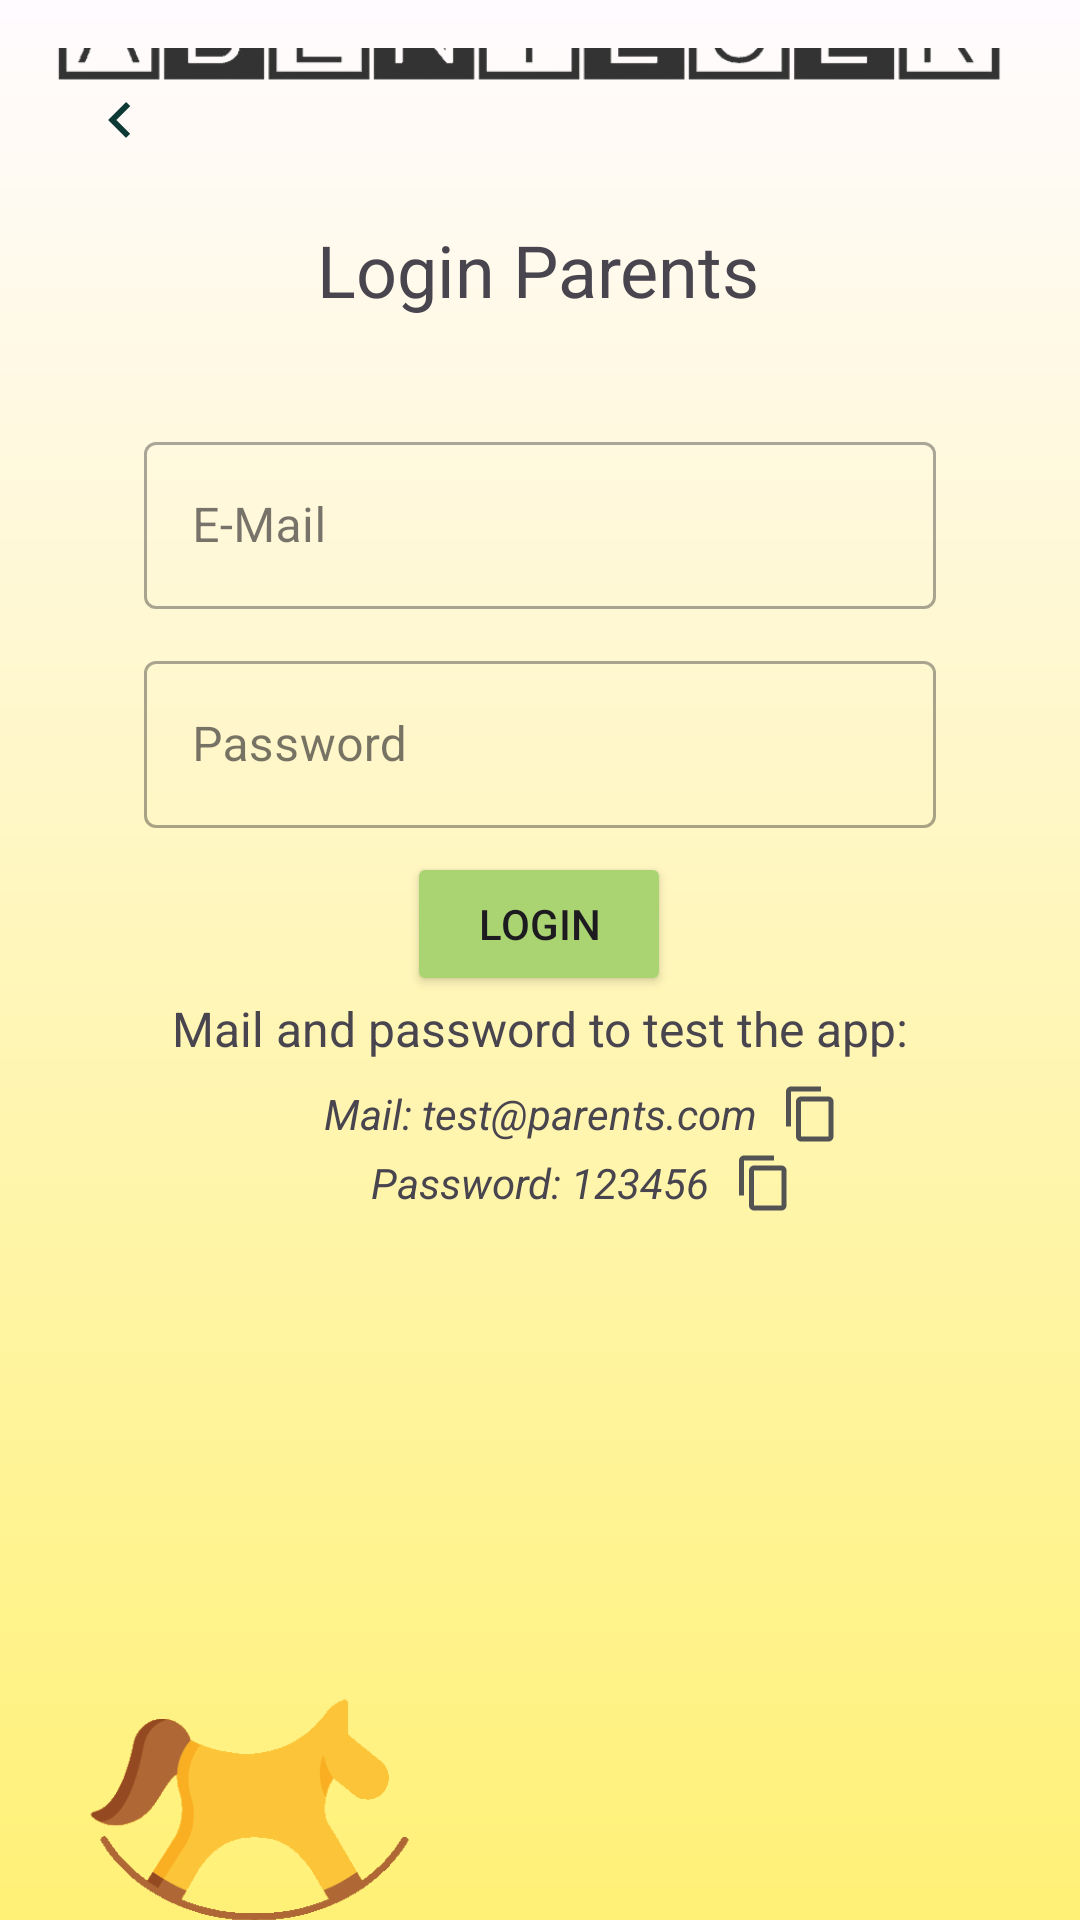

Point at icon controls on the screen. Image size 1080px×1920px, points as (x,y).
arrow left: (119,120)
